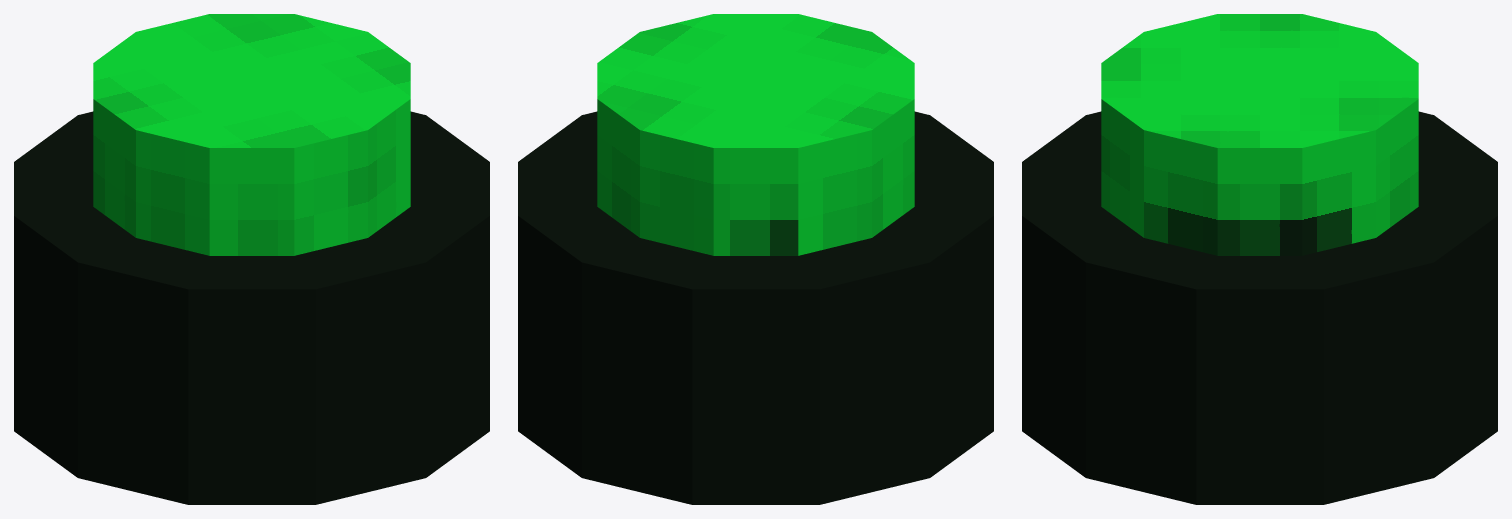
Rendered from buttonl.fbx.
3 renders of one model, left to right at view 1: azimuth 30°, elevation 25°; view 2: azimuth 150°, elevation 25°; view 3: azimuth 270°, elevation 25°, orthographic.
Parts seen in each view (by area): view 1: cylinder_1, cylinder; view 2: cylinder_1, cylinder; view 3: cylinder_1, cylinder.
Part boxes in pixels (x1=…): cylinder_1: x1=14, y1=111, x2=489, y2=504; cylinder: x1=93, y1=14, x2=410, y2=255; cylinder_1: x1=518, y1=111, x2=993, y2=504; cylinder: x1=597, y1=14, x2=914, y2=255; cylinder_1: x1=1022, y1=111, x2=1497, y2=504; cylinder: x1=1101, y1=14, x2=1418, y2=255.
Size of the model in its own units: 300 by 225 by 300.
Materials: 1 (1 with a texture image).
